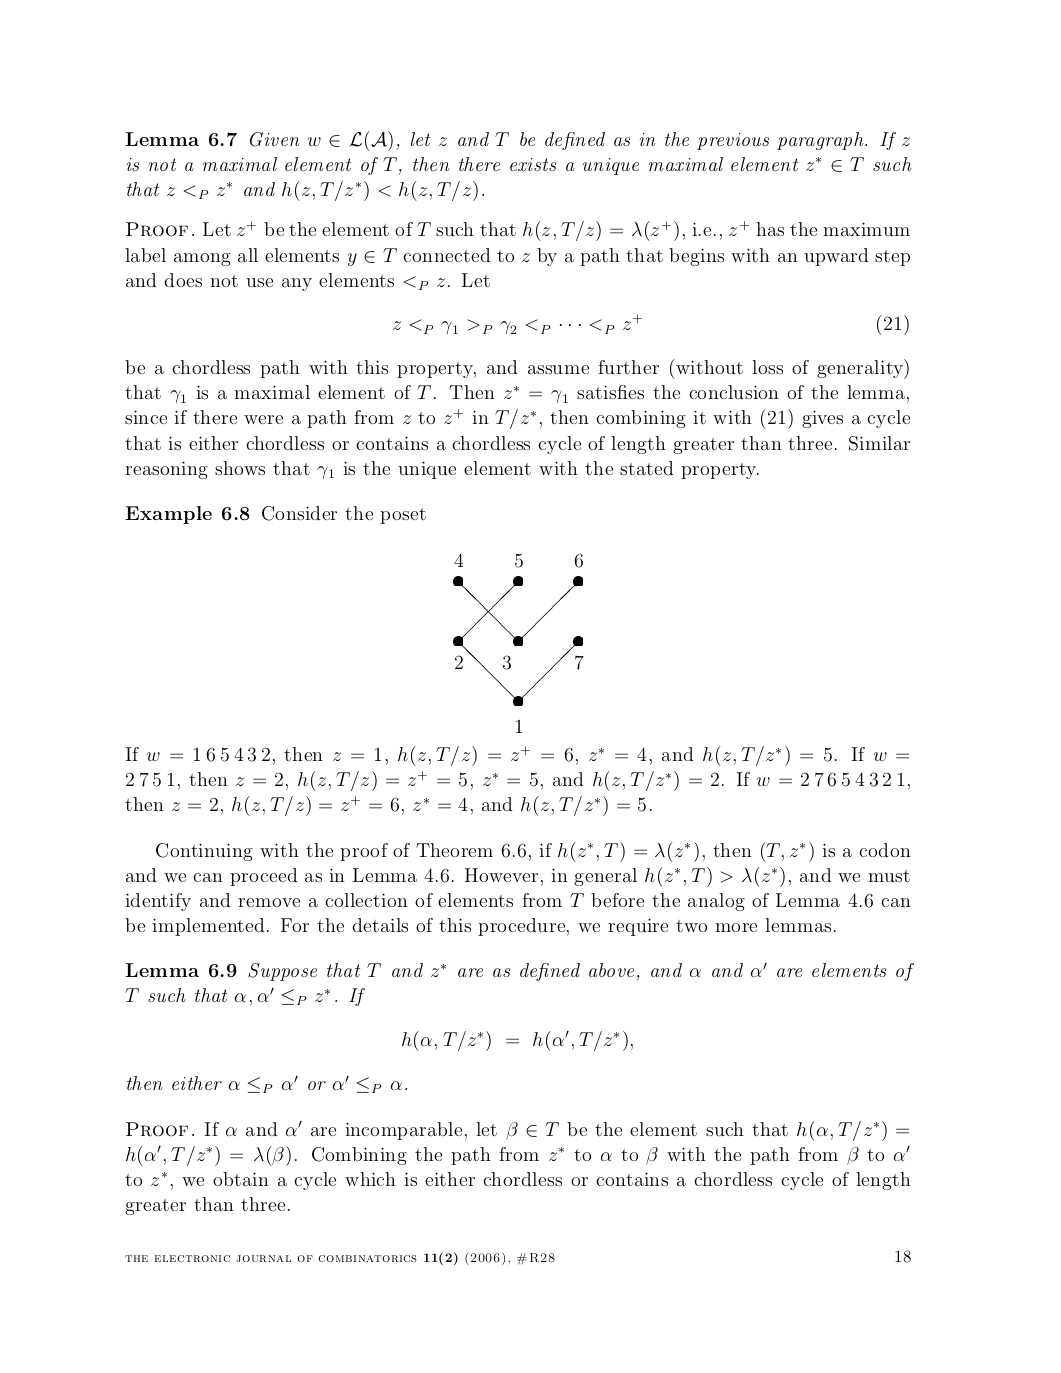figure: (452, 553, 583, 732)
formula: (393, 313, 908, 335), (402, 1029, 632, 1051)
